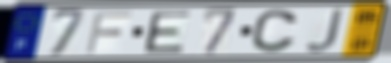7: (201, 6, 239, 57), (49, 7, 86, 58)
C: (248, 8, 300, 54)
E: (143, 10, 194, 54)
F: (83, 10, 135, 55)
J: (302, 7, 347, 55)
